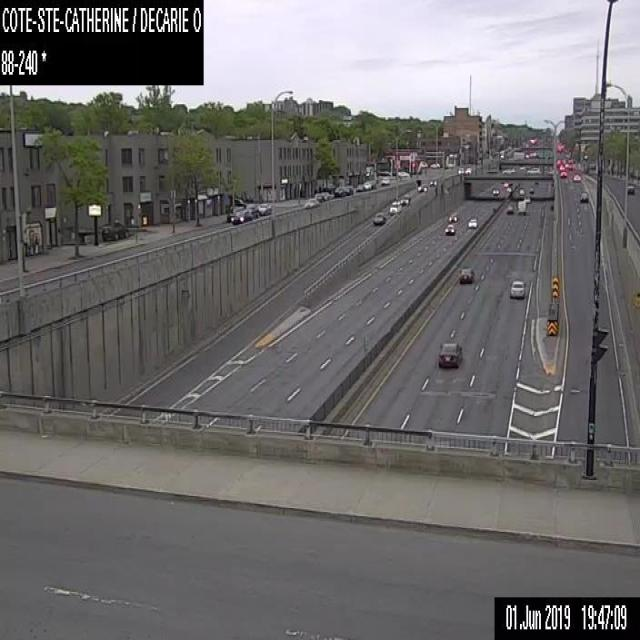vehicle: (437, 340, 462, 368), (230, 209, 252, 224), (509, 278, 525, 298), (226, 206, 243, 221), (458, 268, 473, 284), (244, 204, 258, 218), (372, 212, 385, 225), (258, 203, 271, 215), (388, 201, 401, 213), (304, 198, 318, 208), (626, 181, 636, 195), (334, 187, 346, 198), (444, 223, 455, 234), (234, 198, 246, 208), (579, 190, 589, 202), (400, 193, 410, 204), (518, 200, 526, 213), (468, 218, 478, 228), (526, 167, 539, 174), (504, 204, 514, 213), (502, 166, 514, 173), (572, 172, 581, 181), (380, 176, 389, 185), (417, 184, 427, 192), (398, 169, 408, 177), (314, 193, 324, 201), (448, 213, 458, 221), (355, 185, 364, 192), (457, 166, 464, 174), (464, 166, 471, 174), (428, 178, 436, 185), (491, 187, 499, 194), (321, 192, 329, 199), (346, 186, 352, 195), (364, 182, 370, 190), (369, 180, 375, 188), (560, 170, 566, 178), (523, 195, 530, 201), (506, 186, 512, 192), (519, 188, 524, 194), (529, 186, 533, 193), (559, 165, 564, 170), (503, 181, 508, 186)
